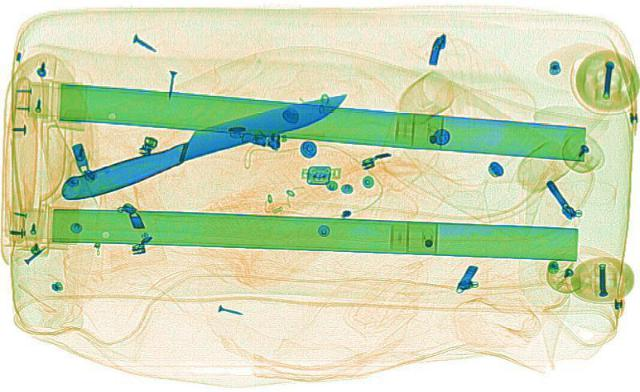Knife: (45, 84, 363, 202)
